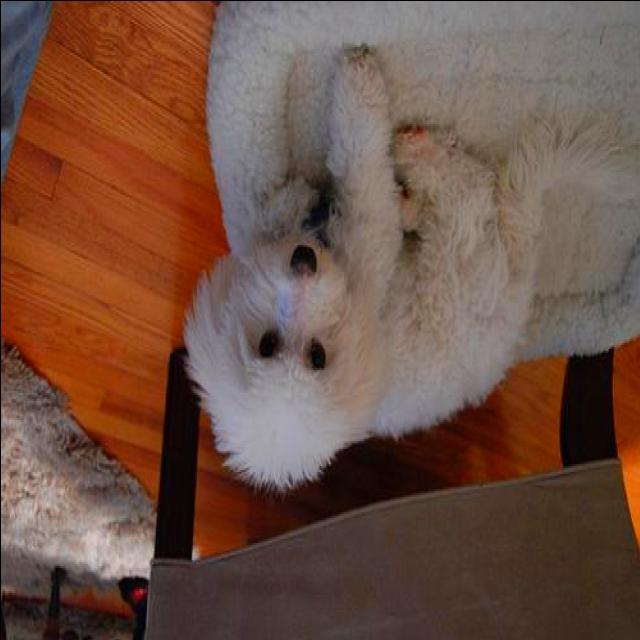maltese_dog: (182, 46, 552, 490)
